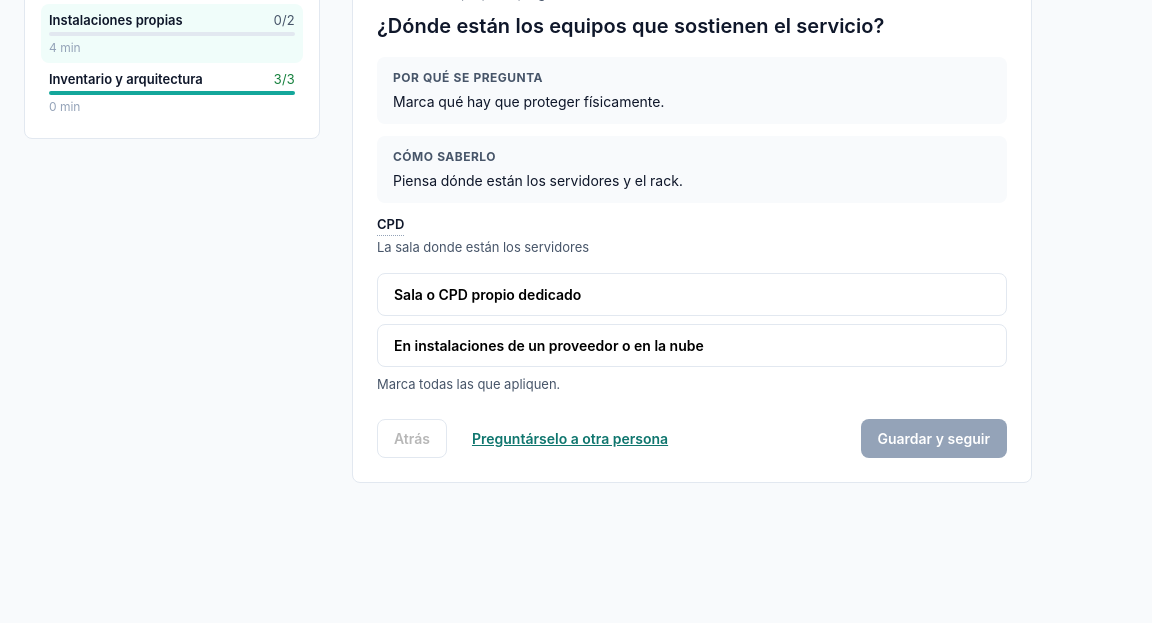
Scenario: PerfiladoView › no existe la opción «no lo sé»: se le pregunta a alguien con nombre
Click the button with class "terciario".
click(570, 438)  # box [455,418,685,458]
(page scrolled)
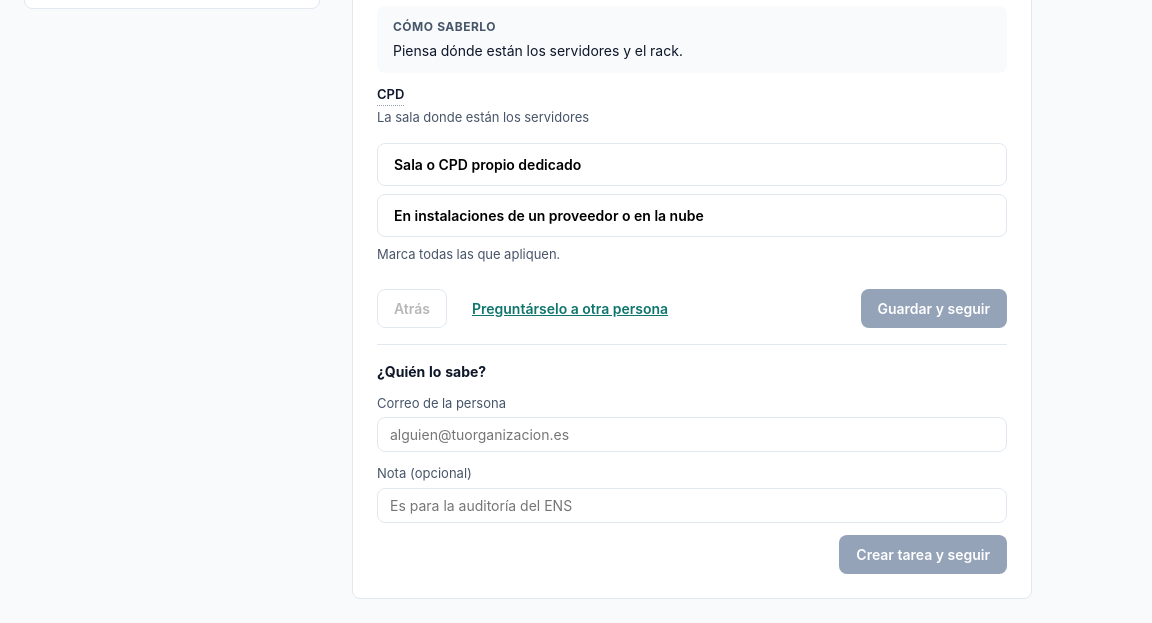
Result: the text "¿Quién lo sabe?" is shown at [377,362,486,380]
Result: the button "Crear tarea y seguir" is disabled at [839,534,1007,574]
